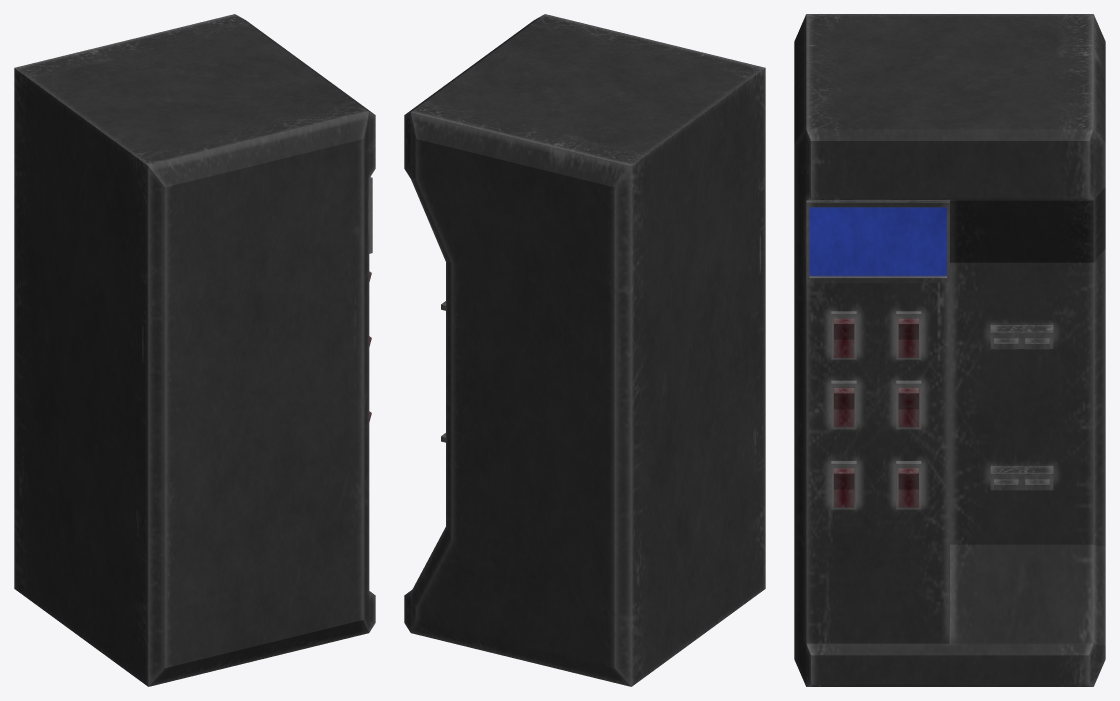
Rendered from charger.fbx.
3 renders of one model, left to right at view 1: azimuth 30°, elevation 25°; view 2: azimuth 150°, elevation 25°; view 3: azimuth 270°, elevation 25°, orthographic. The views are drawn at different scales.
Visible parts, largest first — view 1: Cube; view 2: Cube; view 3: Cube.
Boxes of the visible parts, left/top/right/bottom form: Cube: left=14, top=14, right=375, bottom=686; Cube: left=404, top=14, right=765, bottom=686; Cube: left=794, top=14, right=1105, bottom=686.
Bounding box in the file's own units: 122 × 257 × 130.
Materials: 1 (1 with a texture image).
